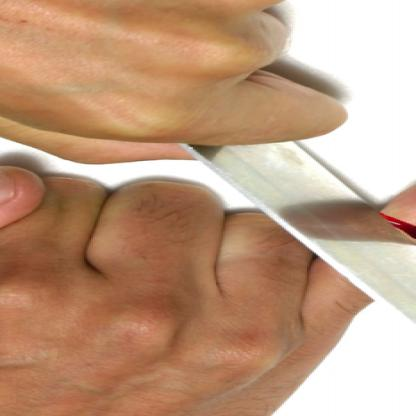knife: (177, 138, 414, 415)
